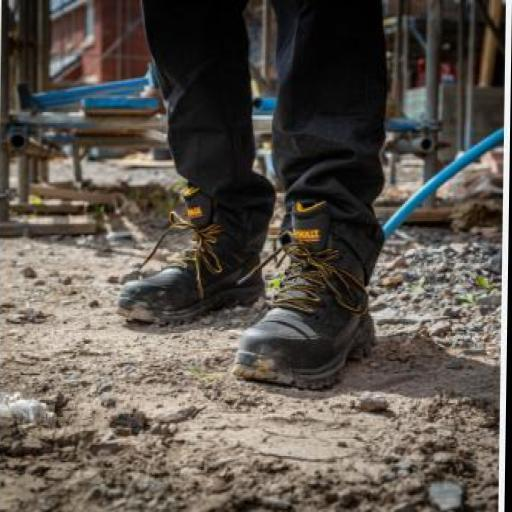safety_boots: (227, 273, 381, 396), (116, 274, 222, 327)
